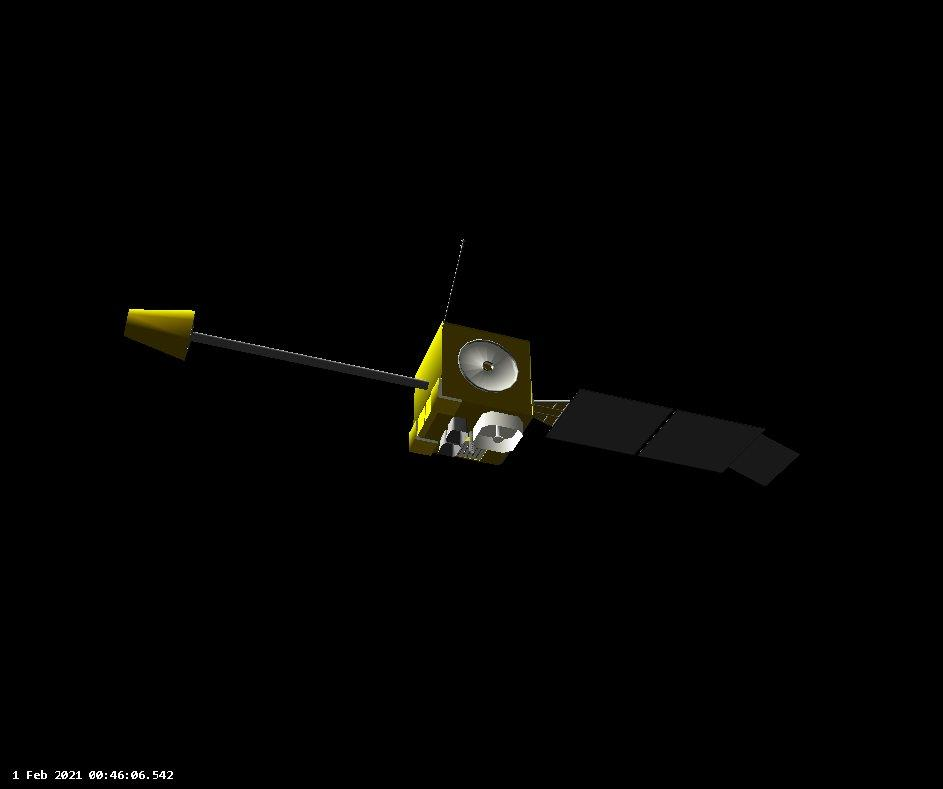antenna: (121, 299, 432, 394), (469, 407, 527, 458), (438, 236, 469, 327)
body: (405, 318, 539, 471)
solar: (529, 381, 804, 489)
